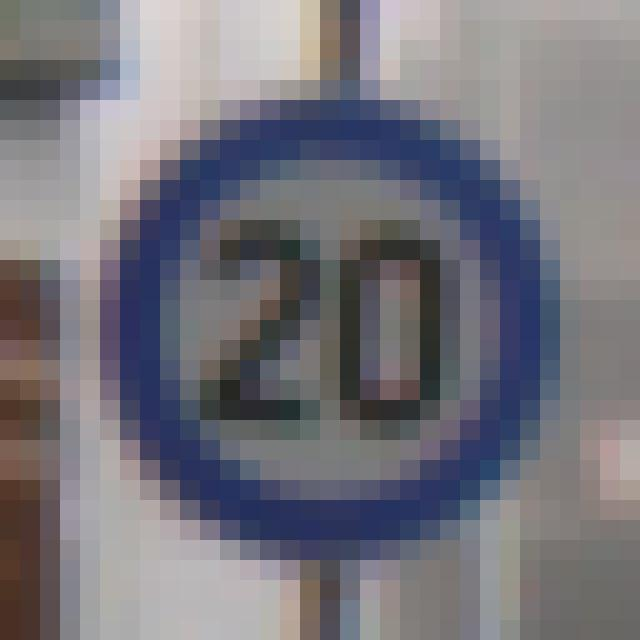SPEED LIMIT 20: (119, 127, 561, 538)
